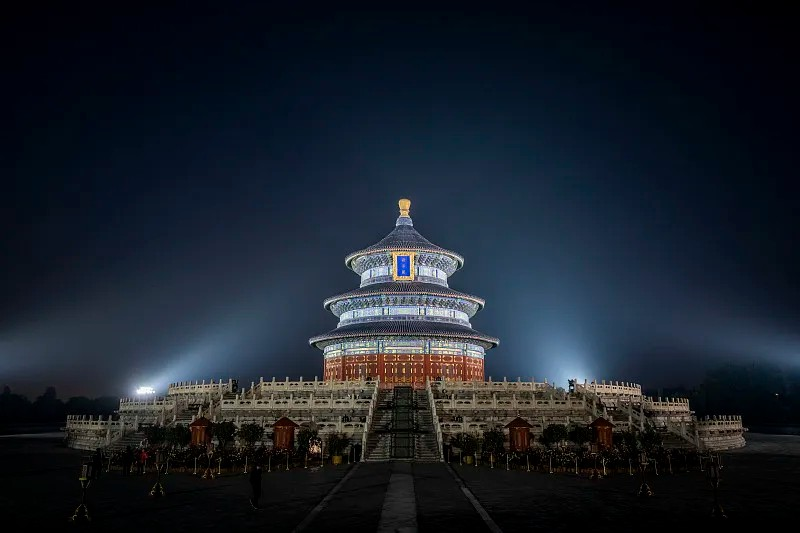Heaven: (308, 196, 500, 383)
